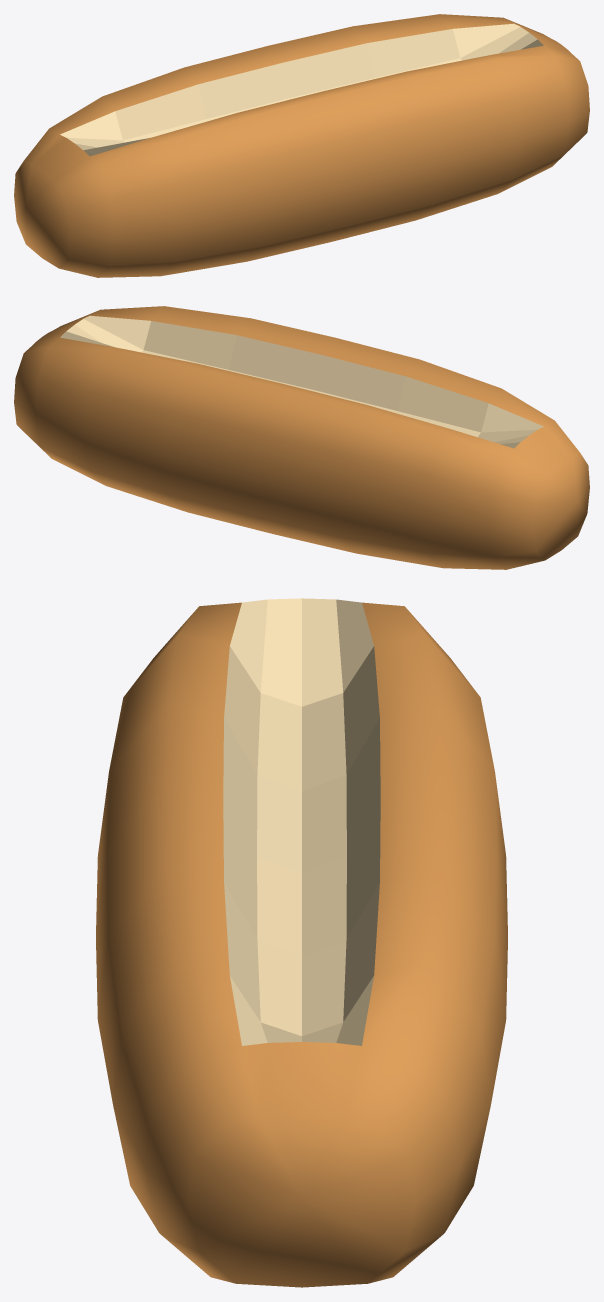
File: pan_pancho.glb
The picture shows the model from 3 angles, top to bottom: view 1: azimuth 30°, elevation 25°; view 2: azimuth 150°, elevation 25°; view 3: azimuth 270°, elevation 25°; orthographic projection. The views are drawn at different scales.
Visible parts, largest first — view 1: pan_pancho; view 2: pan_pancho; view 3: pan_pancho.
Part boxes in pixels (box(x1,y1,x2,y2)): pan_pancho: box(14, 14, 589, 277); pan_pancho: box(14, 306, 589, 569); pan_pancho: box(96, 598, 507, 1287).
Size of the model in its own units: 0.17 by 0.045 by 0.055.
